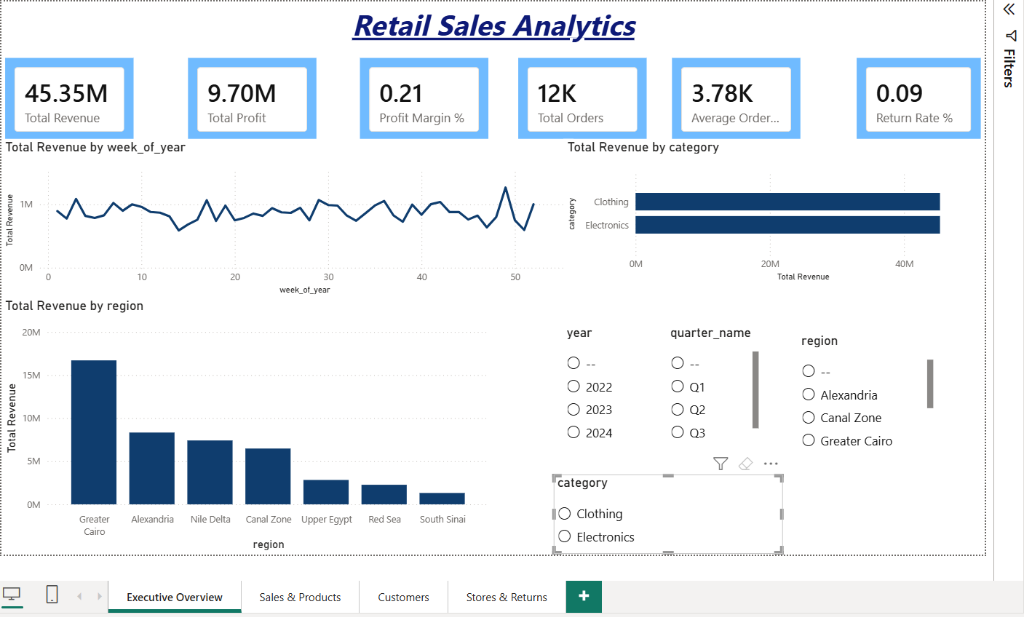

Layout of this report page (visuals, bound fields, positions):
{"tool":"powerbi","page":{"name":"Executive Overview","canvas":[1280,720],"ordinal":0},"visuals":[{"type":"textbox","box":[0,0,1280.3,68.6],"z":0},{"type":"cardVisual","fields":{"Data":["fact_orders.Total Revenue"]},"box":[0,68.8,177.3,118.2],"z":1000},{"type":"cardVisual","fields":{"Data":["fact_orders.Total Profit"]},"box":[237.7,68.8,177.3,118.2],"z":2000},{"type":"cardVisual","fields":{"Data":["fact_orders.Profit Margin %"]},"box":[462.1,68.8,177.3,118.2],"z":3000},{"type":"cardVisual","fields":{"Data":["fact_orders.Total Orders"]},"box":[668.4,68.8,177.3,118.2],"z":4000},{"type":"cardVisual","fields":{"Data":["fact_orders.Average Order Value"]},"box":[868.6,68.8,177.3,118.2],"z":5000},{"type":"cardVisual","fields":{"Data":["fact_orders.Return Rate %"]},"box":[1108.7,68.8,171.3,118.2],"z":6000},{"type":"lineChart","fields":{"Y":["fact_orders.Total Revenue"],"Category":["dim_date.week_of_year"]},"box":[0,178.6,744.4,207.5],"z":7000},{"type":"clusteredBarChart","fields":{"Category":["dim_products.category"],"Y":["fact_orders.Total Revenue"]},"box":[732.3,178.6,547.7,190.6],"z":8000},{"type":"clusteredColumnChart","fields":{"Y":["fact_orders.Total Revenue"],"Category":["dim_stores.region"]},"box":[0,386.6,640.1,333.4],"z":9000},{"type":"listSlicer","fields":{"Values":["dim_date.year"]},"box":[730.3,420.9,93.2,163.7],"z":10000},{"type":"listSlicer","fields":{"Values":["dim_date.quarter_name"]},"box":[865.8,420.9,125.6,163.7],"z":11000},{"type":"listSlicer","fields":{"Values":["dim_customers.region"]},"box":[1036.3,430.7,182.1,163.7],"z":12000},{"type":"listSlicer","fields":{"Values":["dim_products.category"]},"box":[718.6,616.3,299.3,103],"z":13000}]}

Visuals, with their boxes on the page's 1280x720 design canvas (x1, y1, x2, y2). These are canvas units, not pixel positions in the 1024x617 screenshot, which may show the page scaled, cropped or inside an application window:
textbox: detection(0, 0, 1280, 69)
cardVisual - fact_orders.Total Revenue: detection(0, 69, 177, 187)
cardVisual - fact_orders.Total Profit: detection(238, 69, 415, 187)
cardVisual - fact_orders.Profit Margin %: detection(462, 69, 639, 187)
cardVisual - fact_orders.Total Orders: detection(668, 69, 846, 187)
cardVisual - fact_orders.Average Order Value: detection(869, 69, 1046, 187)
cardVisual - fact_orders.Return Rate %: detection(1109, 69, 1280, 187)
lineChart - fact_orders.Total Revenue x dim_date.week_of_year: detection(0, 179, 744, 386)
clusteredBarChart - dim_products.category x fact_orders.Total Revenue: detection(732, 179, 1280, 369)
clusteredColumnChart - fact_orders.Total Revenue x dim_stores.region: detection(0, 387, 640, 720)
listSlicer - dim_date.year: detection(730, 421, 824, 585)
listSlicer - dim_date.quarter_name: detection(866, 421, 991, 585)
listSlicer - dim_customers.region: detection(1036, 431, 1218, 594)
listSlicer - dim_products.category: detection(719, 616, 1018, 719)
